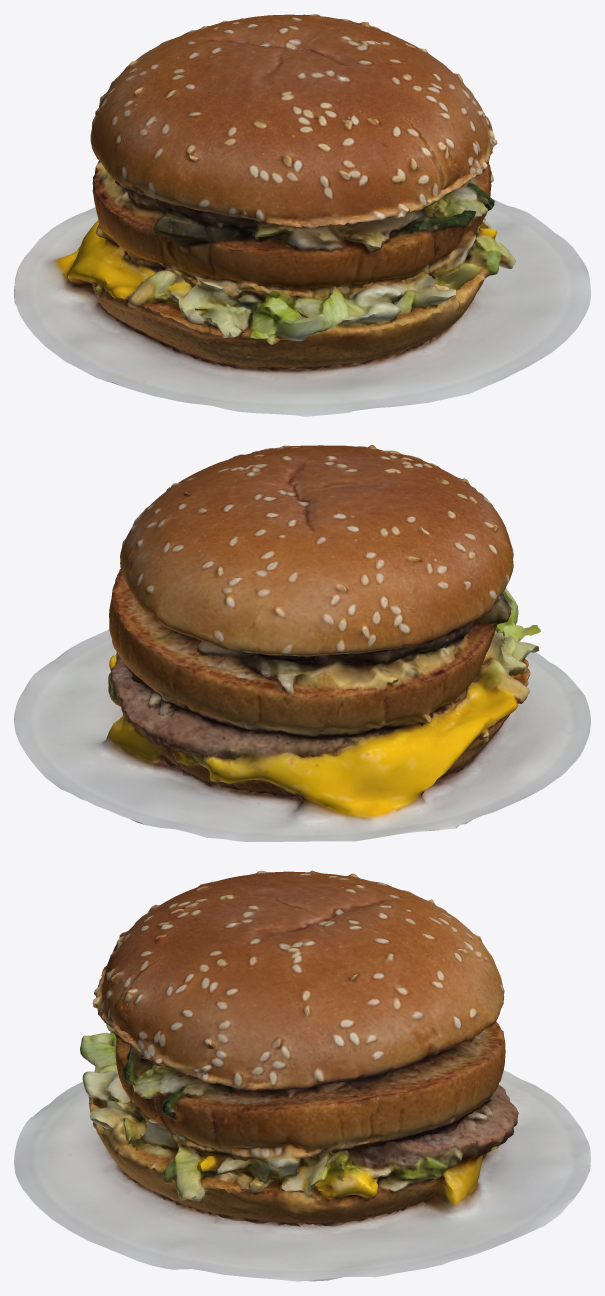
File: mcdonalds_big_mac.glb
3 renders of one model, top to bottom at view 1: azimuth 30°, elevation 25°; view 2: azimuth 150°, elevation 25°; view 3: azimuth 270°, elevation 25°, orthographic.
Parts seen in each view (by area): view 1: Object_2; view 2: Object_2; view 3: Object_2.
Part boxes in pixels (left/top/right/bottom): Object_2: left=14, top=14, right=590, bottom=416; Object_2: left=14, top=445, right=590, bottom=841; Object_2: left=14, top=870, right=590, bottom=1281.
Size of the model in its own units: 0.7624 by 0.3582 by 0.763.
1 material, 1 textured.
